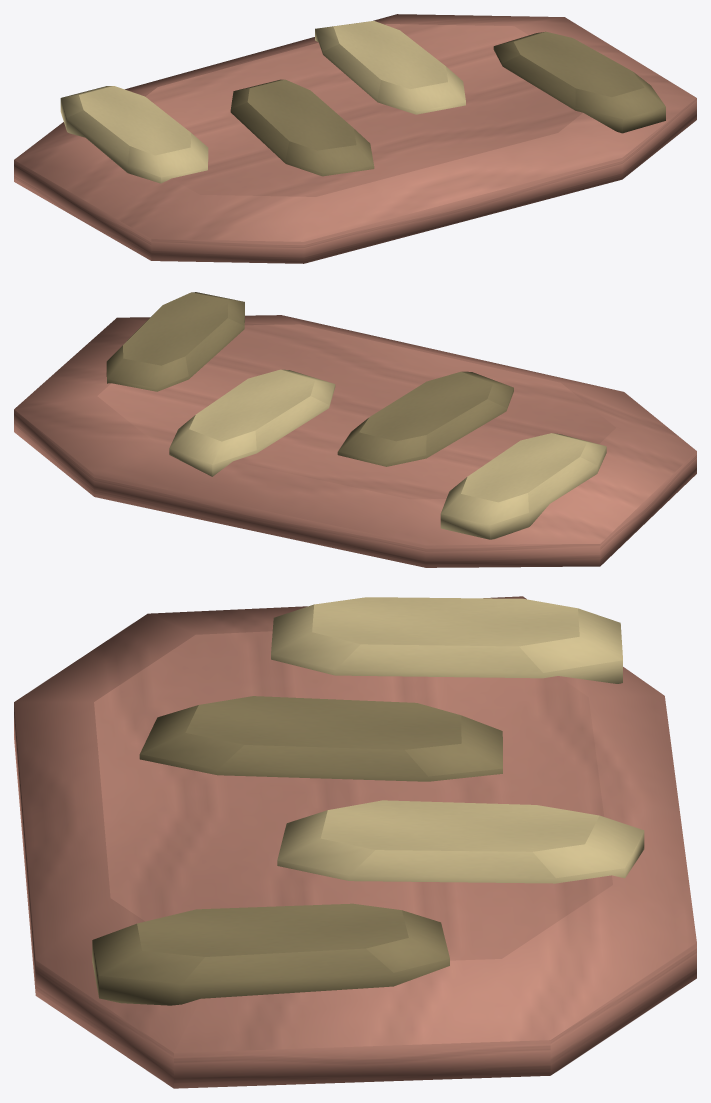
The model's file is PilotTepuibone_2.fbx.
The picture shows the model from 3 angles, top to bottom: view 1: azimuth 30°, elevation 25°; view 2: azimuth 150°, elevation 25°; view 3: azimuth 270°, elevation 25°; orthographic projection. The views are drawn at different scales.
Visible parts, largest first — view 1: PilotTepuibone_2__Geometry; view 2: PilotTepuibone_2__Geometry; view 3: PilotTepuibone_2__Geometry.
Part boxes in pixels (x1,y1,x2,y2): PilotTepuibone_2__Geometry: (14, 14, 696, 263); PilotTepuibone_2__Geometry: (14, 292, 696, 567); PilotTepuibone_2__Geometry: (14, 596, 696, 1088).
Size of the model in its own units: 0.8858 by 0.1065 by 0.56.
